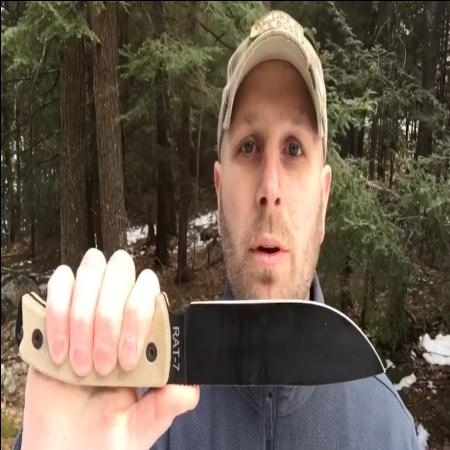long weapon: (71, 241, 390, 408)
